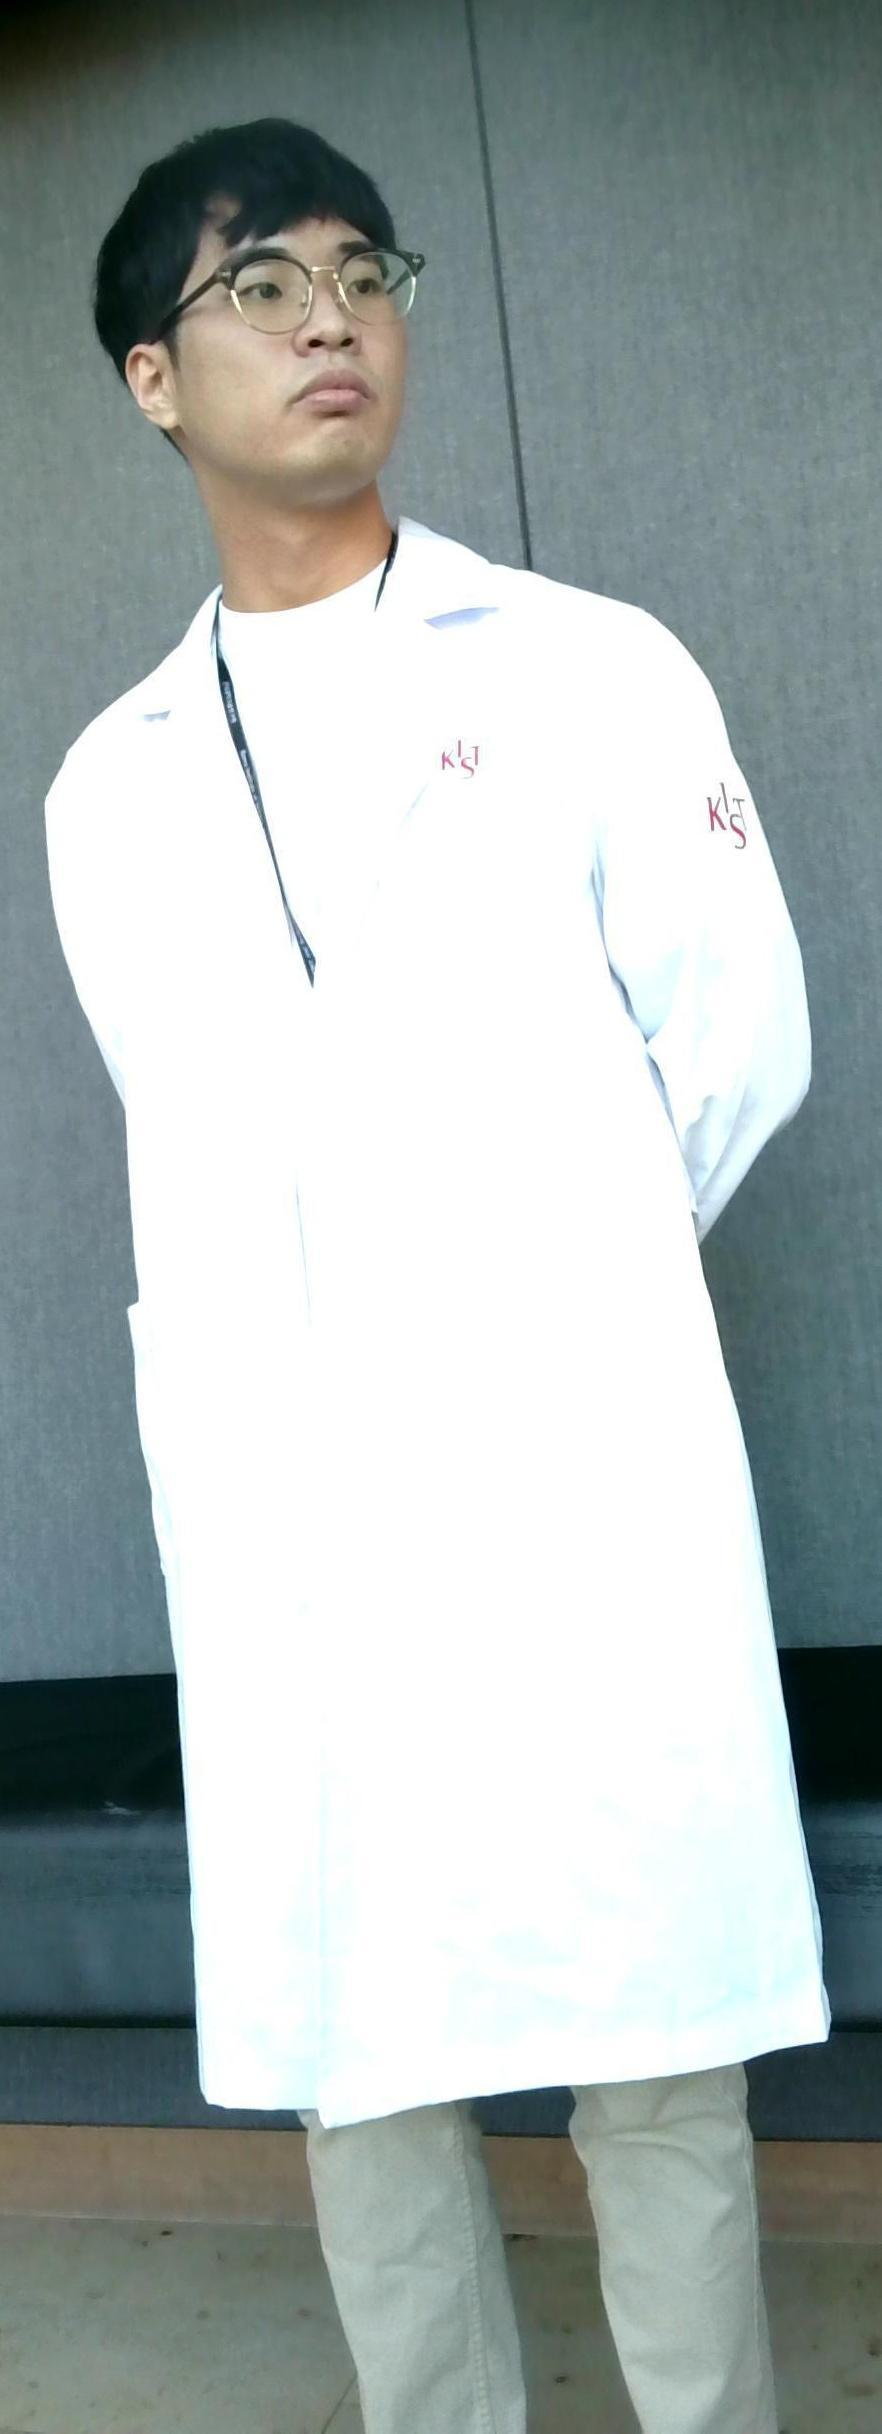lab_coat: (36, 605, 790, 2037)
